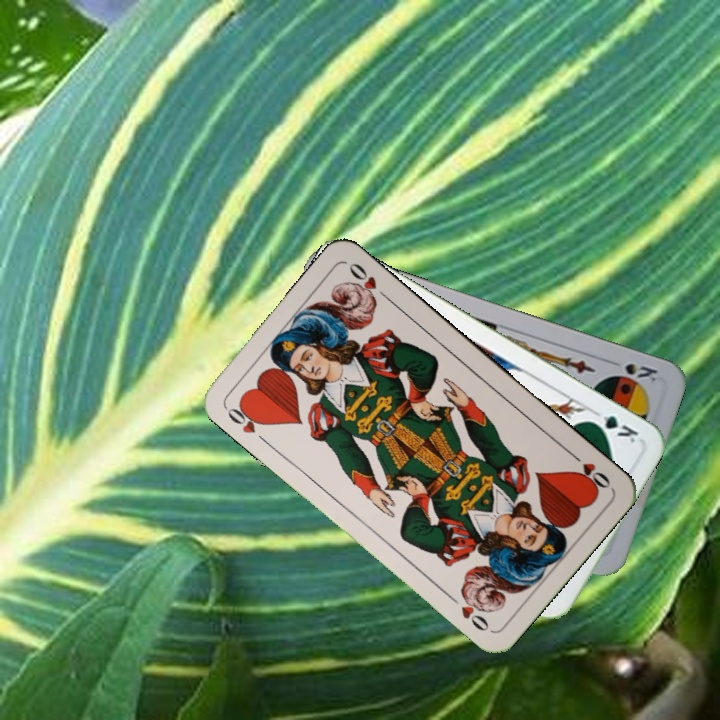GK: (585, 411, 642, 446)
HO: (222, 398, 271, 447), (565, 447, 613, 494)
SK: (621, 359, 661, 385)
